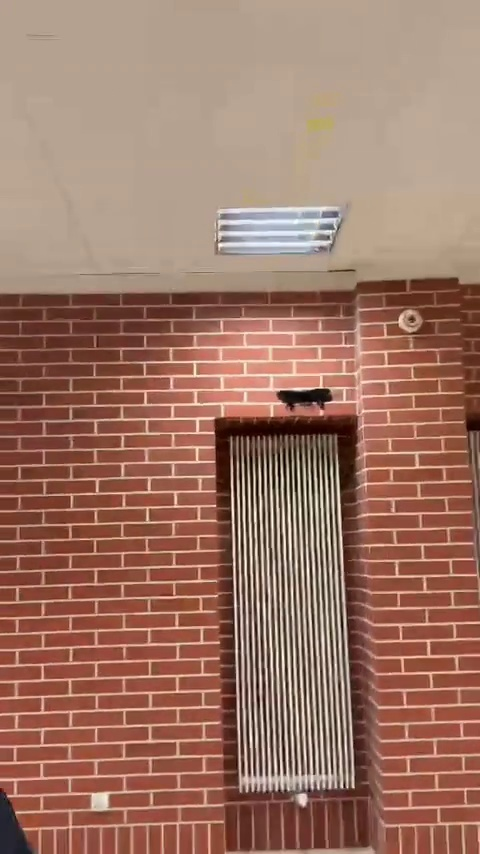drone: (276, 387, 334, 408)
